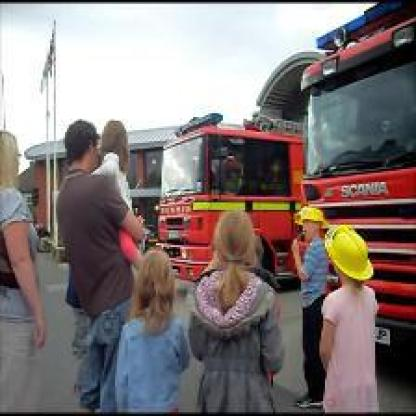other: (155, 190, 296, 233), (297, 205, 369, 278)
